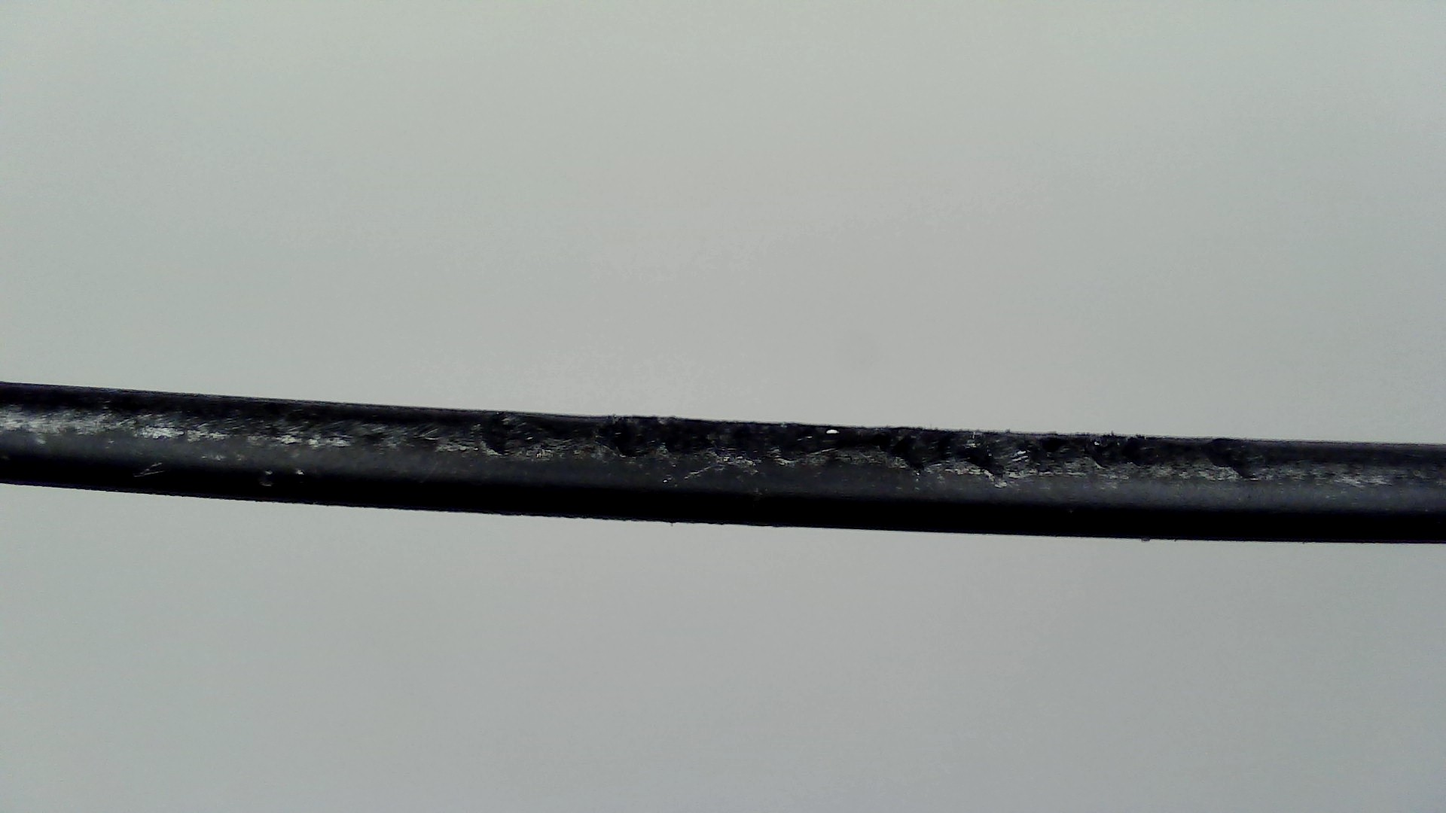defect: (85, 388, 1388, 487)
